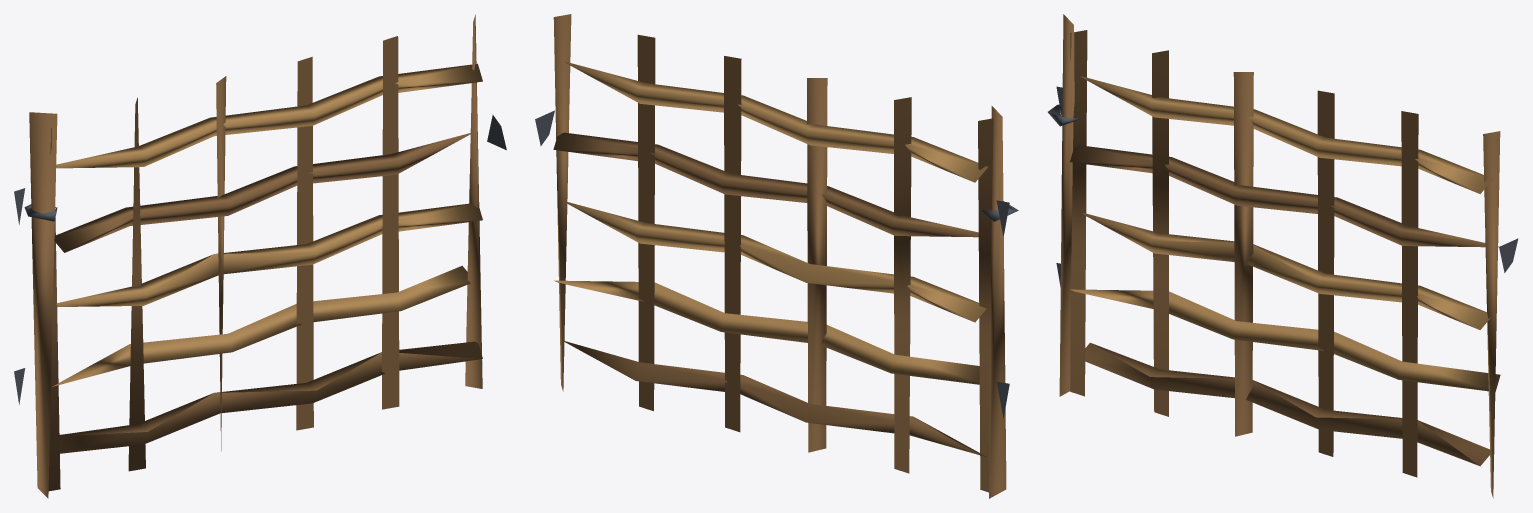
The model's file is fence-willow-gate.lod1.glb.
3 renders of one model, left to right at view 1: azimuth 30°, elevation 25°; view 2: azimuth 150°, elevation 25°; view 3: azimuth 330°, elevation 25°, orthographic. The views are drawn at different scales.
Parts seen in each view (by area): view 1: fence-willow-gate_lod1; view 2: fence-willow-gate_lod1; view 3: fence-willow-gate_lod1.
Part boxes in pixels (box(x1,y1,x2,y2)): fence-willow-gate_lod1: box(14, 14, 506, 498); fence-willow-gate_lod1: box(535, 14, 1018, 498); fence-willow-gate_lod1: box(1048, 14, 1518, 498).
Bounding box in the file's own units: 0.9674 × 0.74 × 0.0783.
